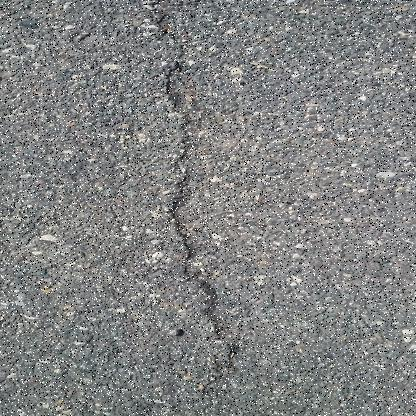Cracks: (135, 0, 252, 399)
